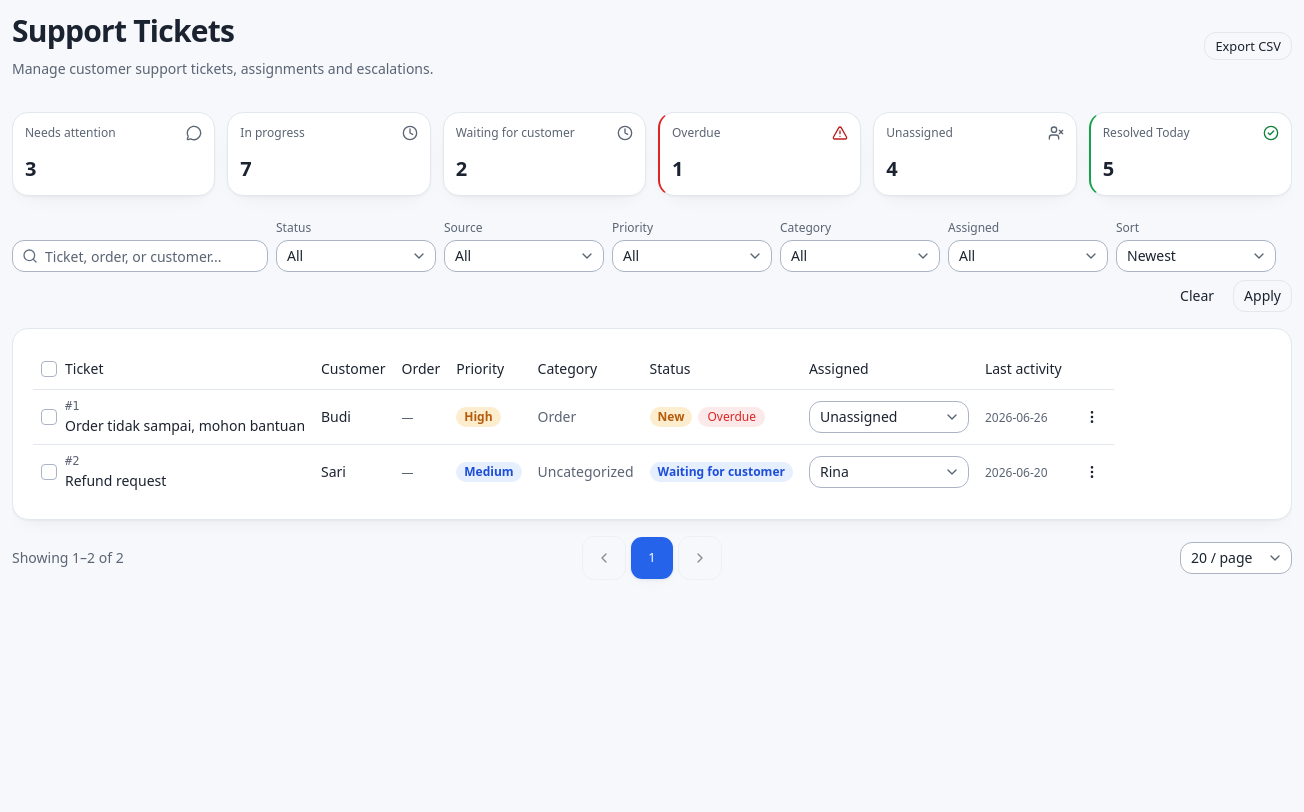
Test: SupportPage › shows the filtered-empty state (with Clear Filters) once a status filter narrows to nothing
The image size is (1304, 812).
Expected: the text "Order tidak sampai, mohon bantuannya untuk dicek ya kak" is shown, left=65, top=416, right=305, bottom=436
Step 1. Click the dropdown named "Status filter" → click(356, 256), box left=276, top=240, right=436, bottom=272
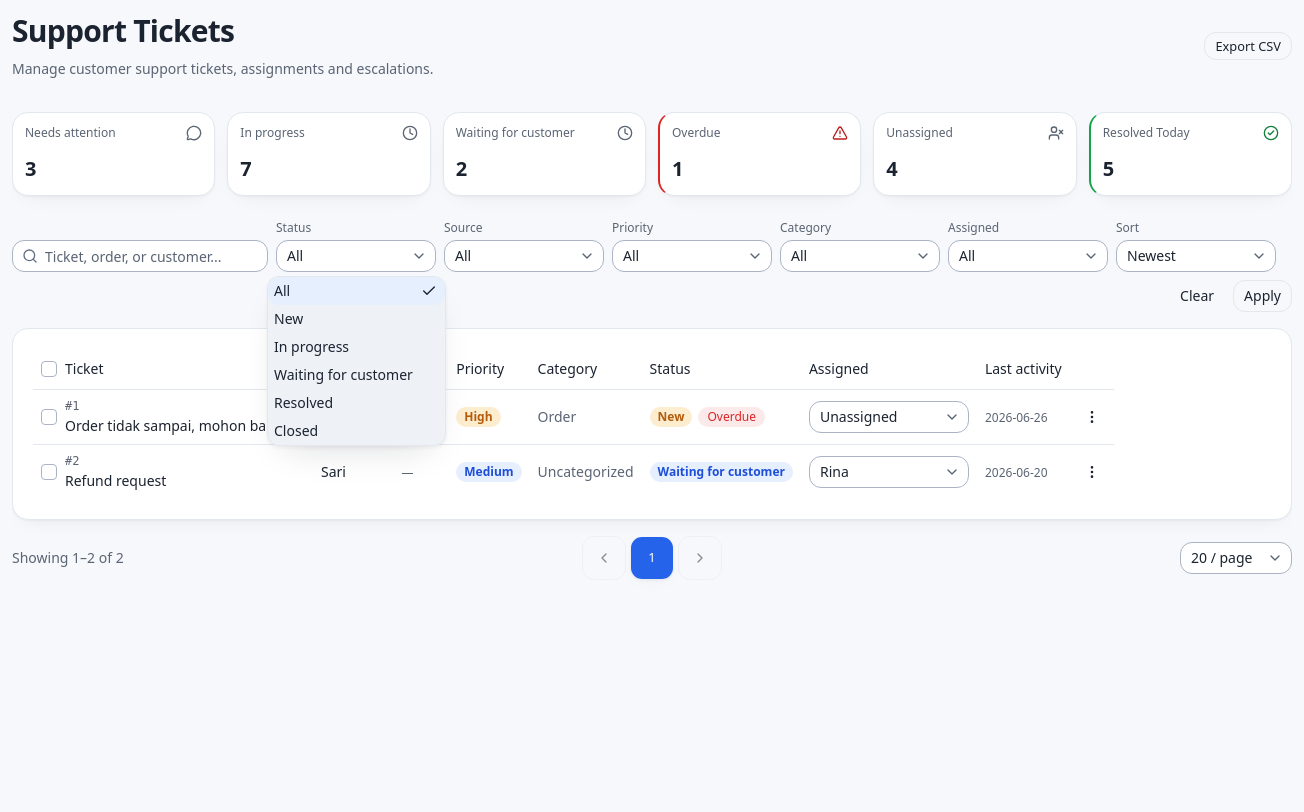
Step 2. Click the option "Closed" → click(296, 430), box left=274, top=421, right=318, bottom=440
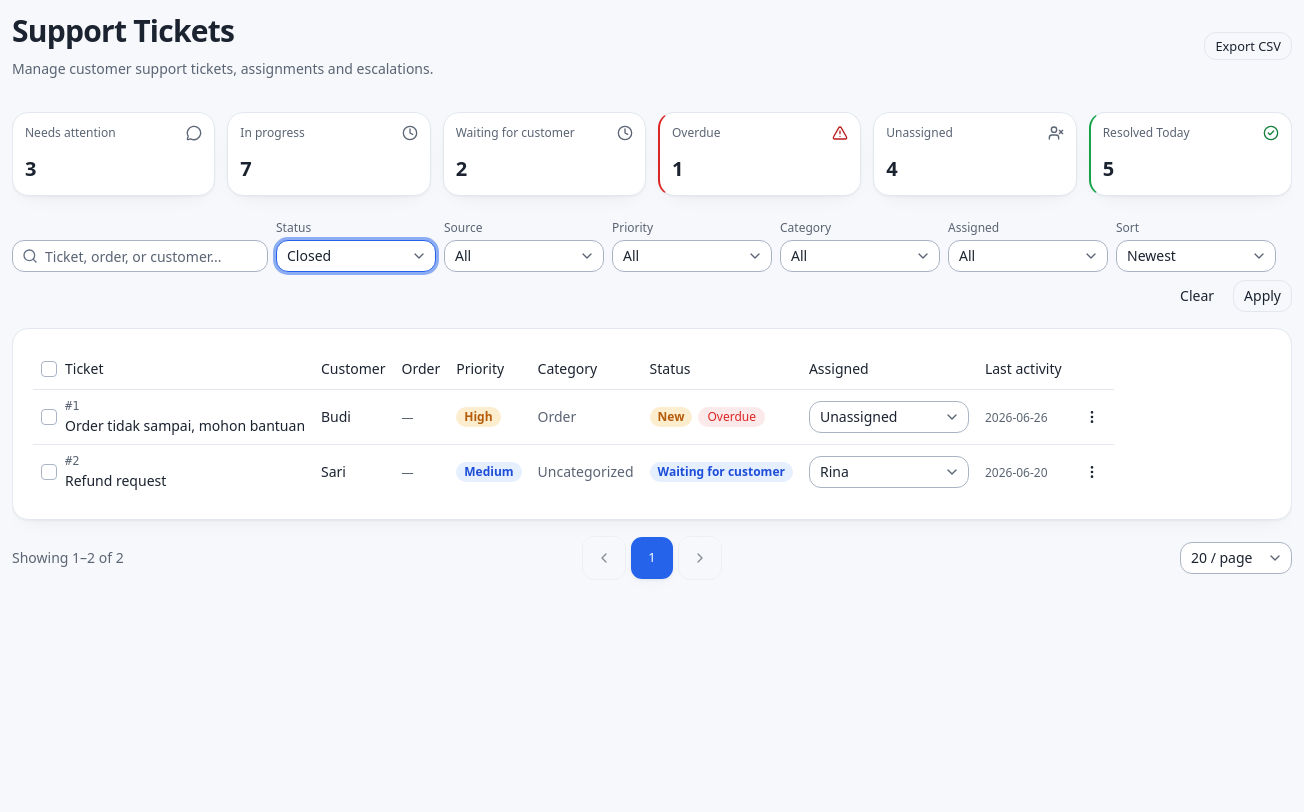
Step 3. Click the button "Apply" → click(1263, 296), box left=1233, top=280, right=1292, bottom=312
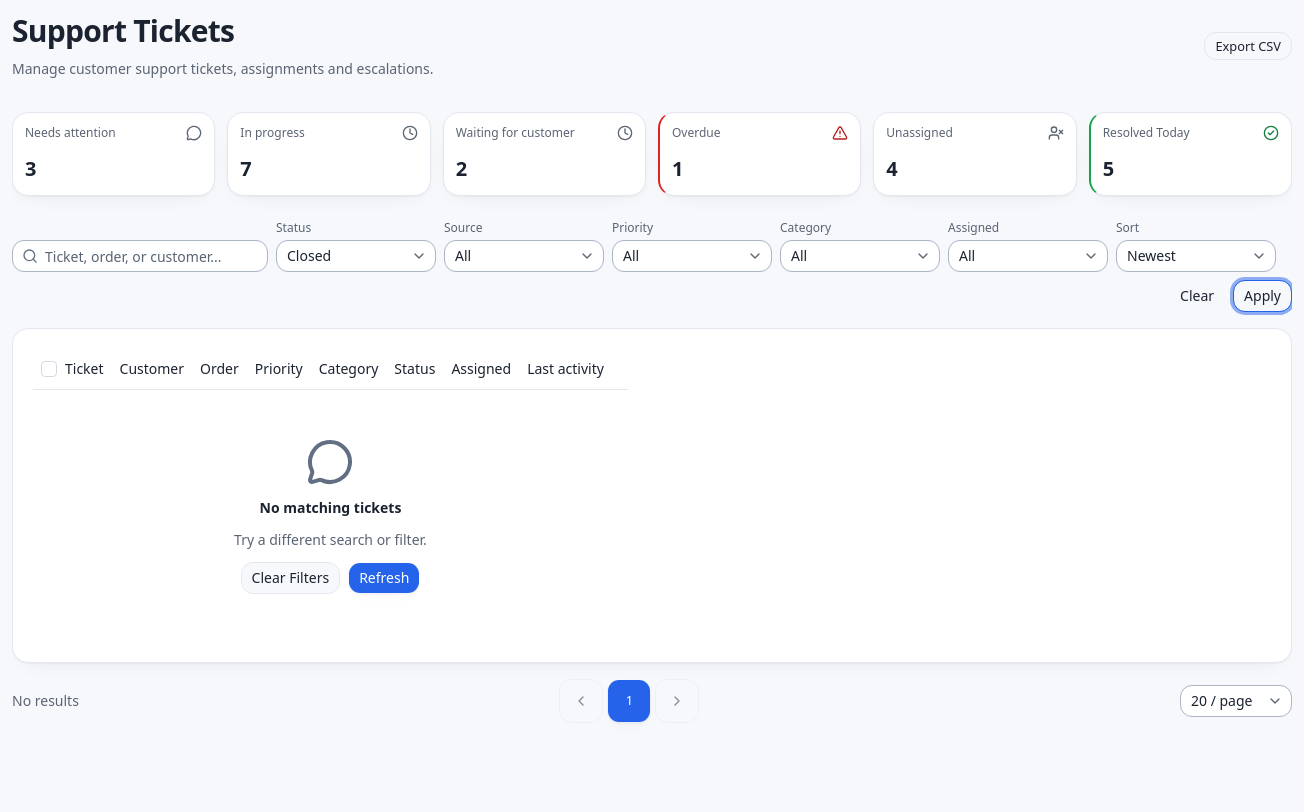
Result: the text "No matching tickets" is shown at left=260, top=498, right=401, bottom=518
Result: the button "Clear Filters" is shown at left=241, top=562, right=340, bottom=594
